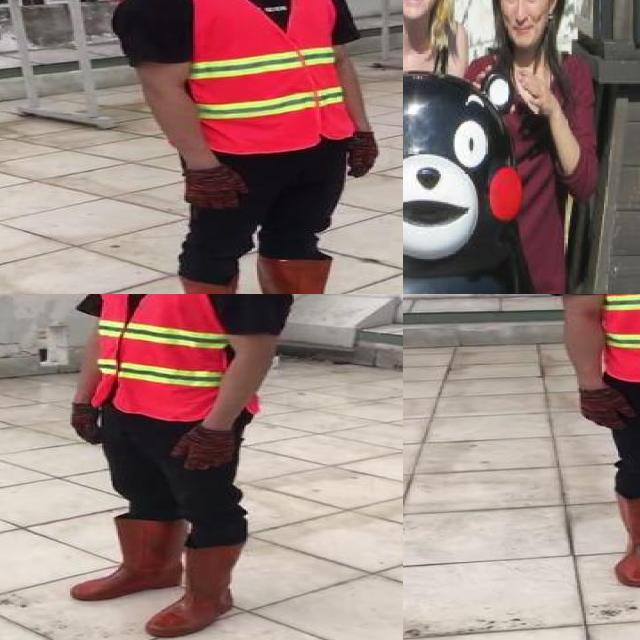No_Glasses: (495, 0, 551, 7)
boots: (70, 520, 186, 601), (146, 544, 239, 637), (257, 254, 378, 294), (607, 486, 640, 588)
face_nomask: (498, 0, 546, 43)
hand_glove: (166, 429, 241, 469), (186, 165, 246, 210), (577, 389, 638, 429), (70, 401, 104, 448), (349, 130, 378, 179)
hand_noglove: (509, 60, 560, 115)
head_helmet: (539, 294, 640, 597)
person: (44, 294, 302, 640), (110, 0, 394, 294), (457, 0, 608, 294), (403, 0, 475, 107)
vest: (182, 0, 345, 155), (91, 294, 263, 421)
